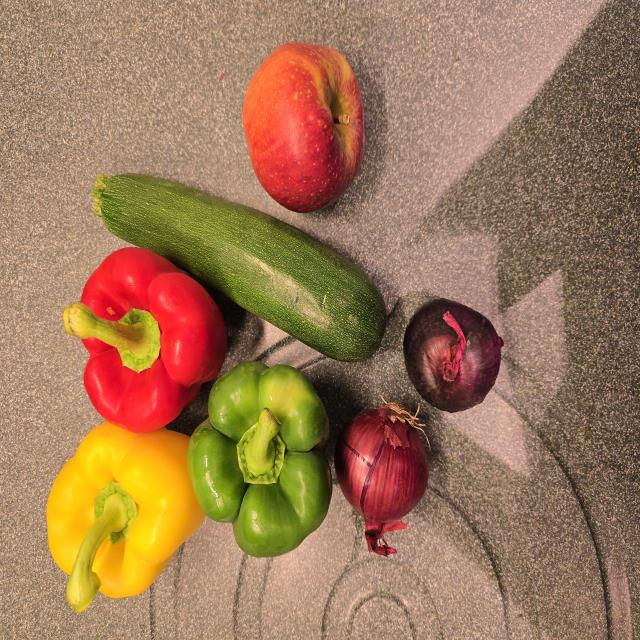Apple: (243, 43, 364, 212)
Bell Pepper: (47, 423, 205, 614), (63, 248, 226, 432), (187, 361, 332, 557)
Courgette: (91, 174, 386, 361)
Onion: (335, 405, 428, 556), (403, 298, 504, 412)
